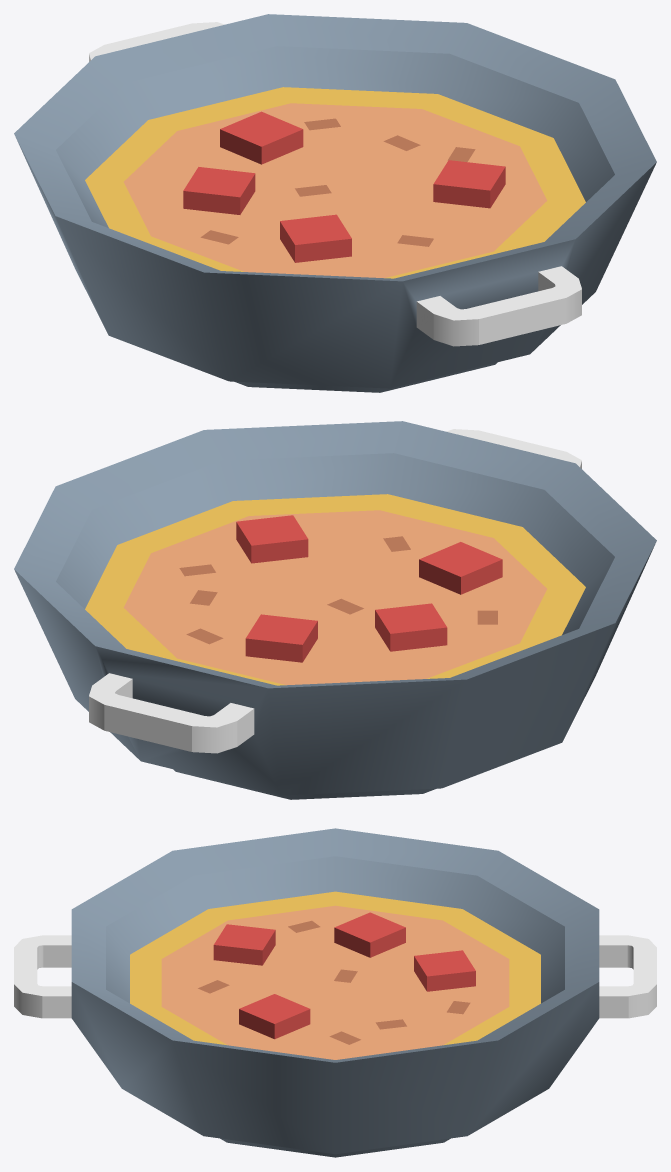
File: Pan Stew.glb
3 views of the same model, one above another, from view 1: azimuth 30°, elevation 25°; view 2: azimuth 150°, elevation 25°; view 3: azimuth 270°, elevation 25° (orthographic). The views are drawn at different scales.
Visible parts, largest first — view 1: Pan Stew; view 2: Pan Stew; view 3: Pan Stew.
Part boxes in pixels (box(x1,y1,x2,y2)): Pan Stew: box(14, 14, 656, 392); Pan Stew: box(14, 421, 656, 799); Pan Stew: box(14, 828, 656, 1157).
Size of the model in its own units: 0.6574 by 0.1753 by 0.7621.
